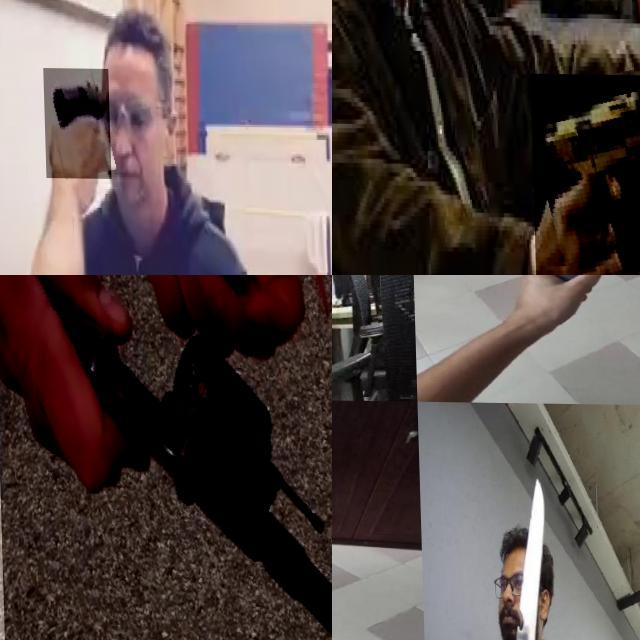-: (493, 474, 553, 640), (535, 275, 640, 333), (332, 463, 379, 578), (332, 309, 342, 336)
gun-knife-thesis - v11 Yolov5 augmented: (0, 275, 332, 640), (527, 72, 640, 275), (42, 67, 109, 178)
